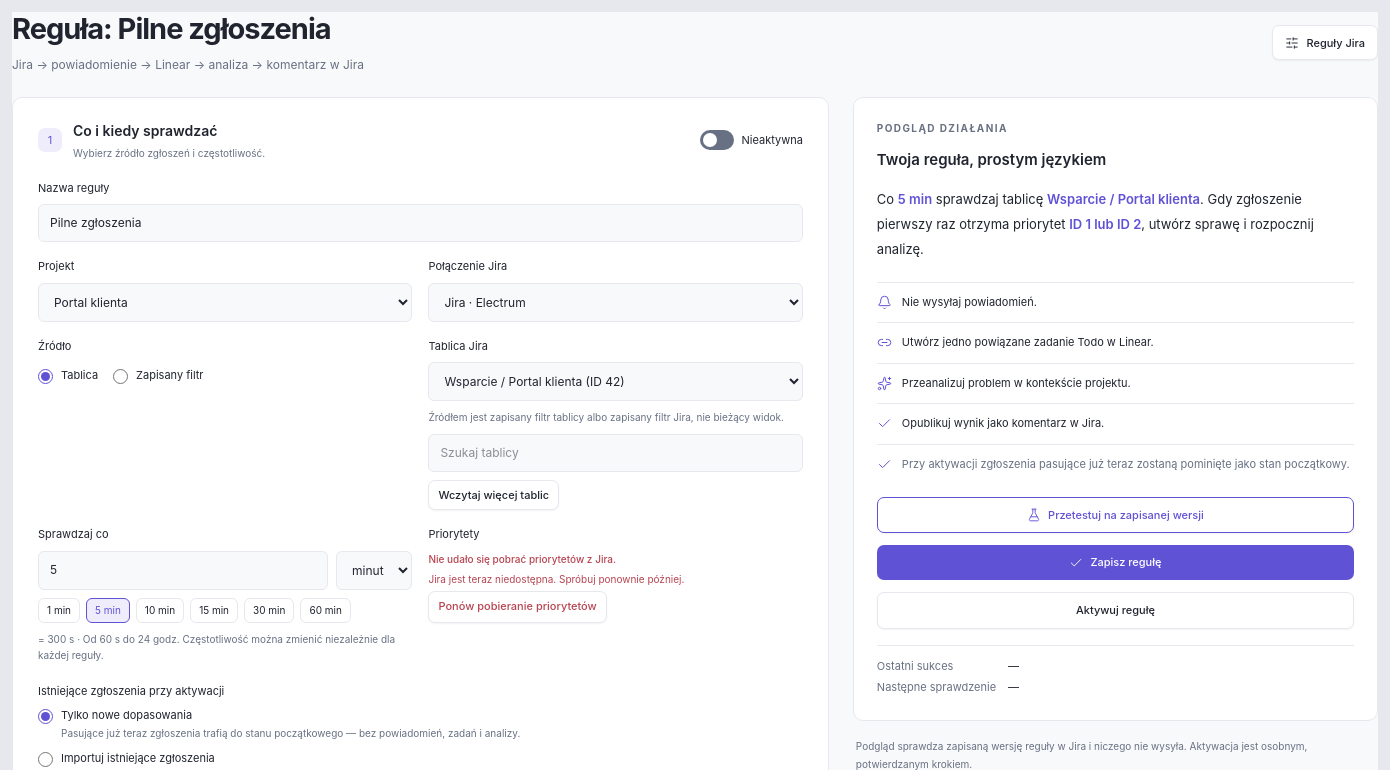
Scenario: T24.2 pickery Jira i Linear z jawnymi ID › priorytety są w kolejności Jira z ID, a błąd pobrania ma ponowienie
expect the text "Nie udało się pobrać priorytetów z Jira." is shown: met, box top-left (428, 551), bottom-right (616, 567)
Click the button "Ponów pobieranie priorytetów" at (518, 607), box top-left (428, 591), bottom-right (607, 623)
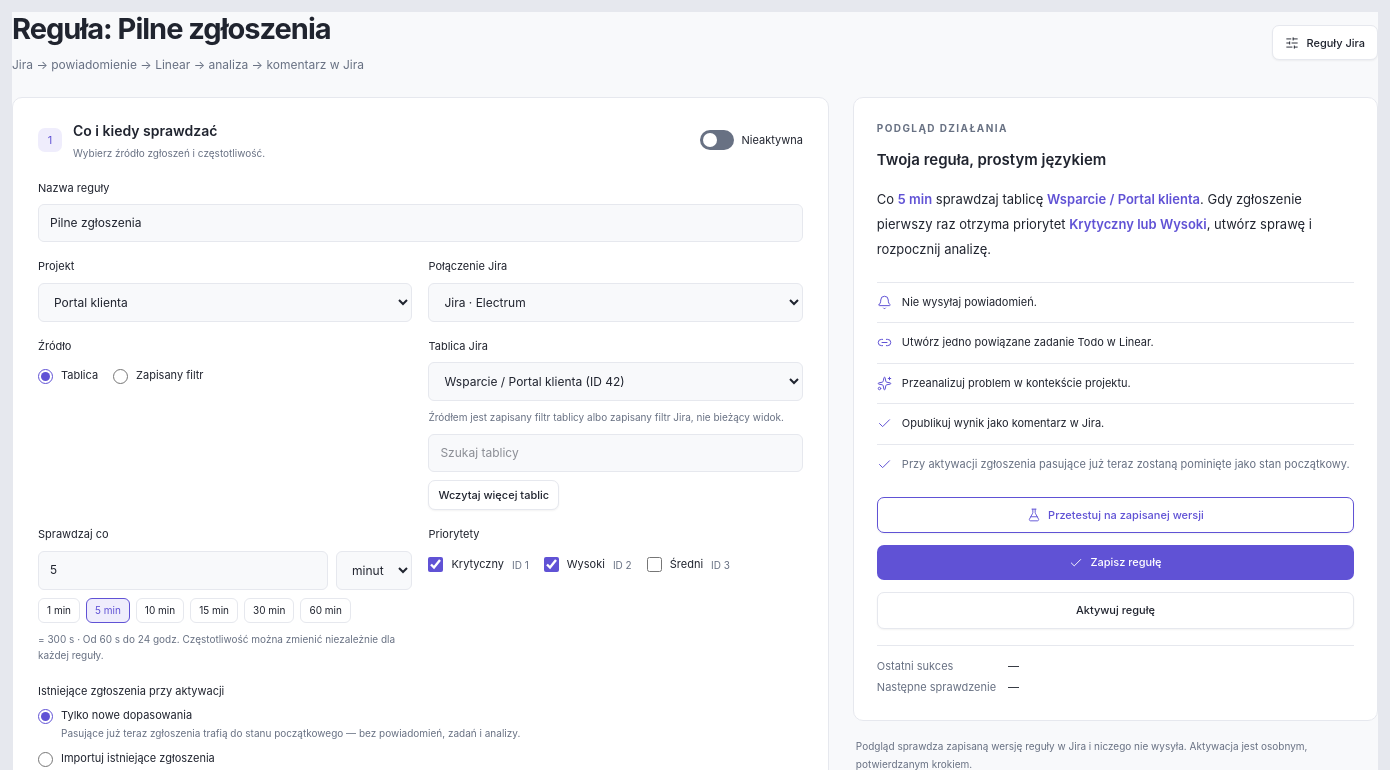
expect the checkbox labelled "Krytyczny ID 1" is checked: met, box top-left (428, 557), bottom-right (443, 572)
expect the checkbox labelled "Średni ID 3" is not checked: met, box top-left (647, 557), bottom-right (662, 572)
